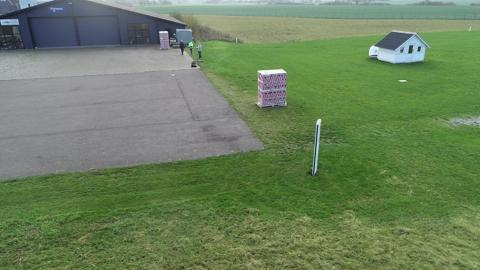RockwoolPallet: (158, 30, 170, 50)
